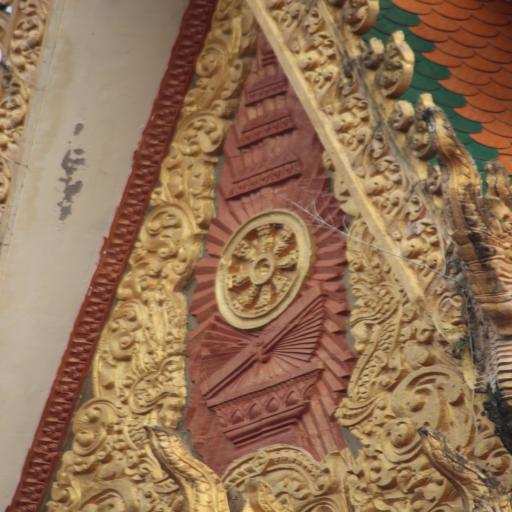la: (374, 370, 469, 460), (124, 208, 204, 286), (62, 399, 130, 479), (180, 38, 240, 113), (155, 150, 225, 210), (363, 151, 421, 218), (391, 93, 450, 157), (367, 30, 418, 95), (296, 31, 348, 94), (324, 87, 374, 152), (98, 299, 150, 356), (401, 215, 446, 279), (272, 0, 322, 44), (174, 114, 226, 152), (339, 0, 377, 35)
